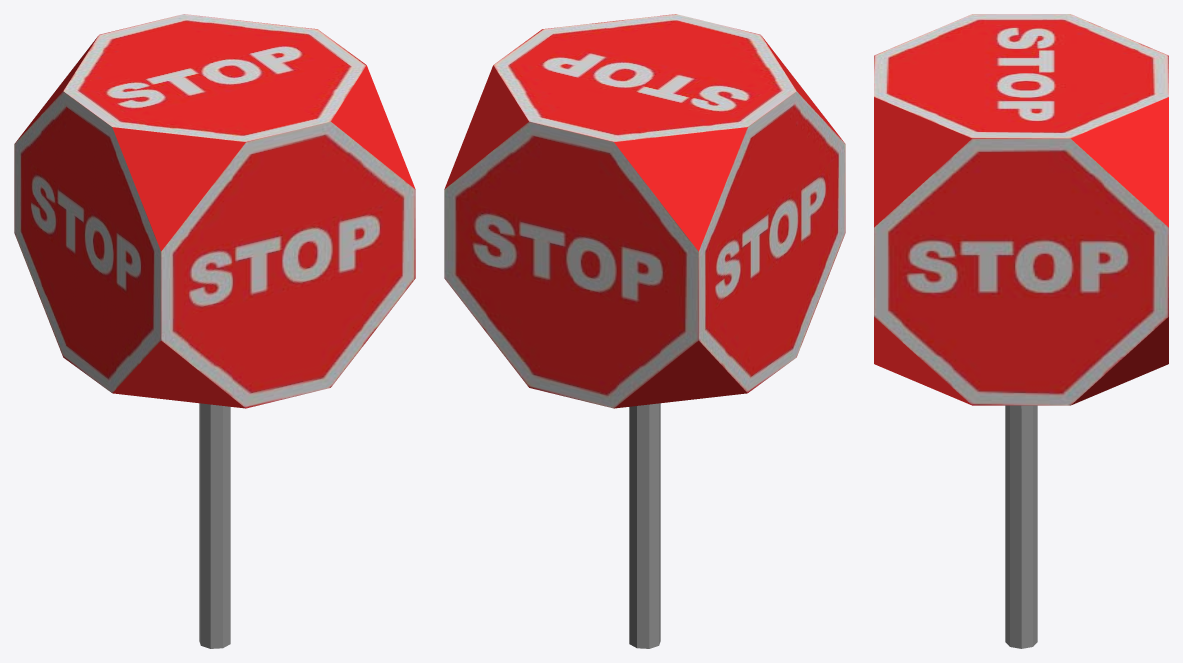
File: stopSign_v2.fbx
The picture shows the model from 3 angles, left to right: view 1: azimuth 30°, elevation 25°; view 2: azimuth 150°, elevation 25°; view 3: azimuth 270°, elevation 25°; orthographic projection.
Visible parts, largest first — view 1: stopSign_cube_01, stopSign_pole_01; view 2: stopSign_cube_01, stopSign_pole_01; view 3: stopSign_cube_01, stopSign_pole_01.
Boxes of the visible parts, x1=… form: stopSign_cube_01: x1=14, y1=14, x2=415, y2=408; stopSign_pole_01: x1=199, y1=403, x2=230, y2=648; stopSign_cube_01: x1=444, y1=14, x2=845, y2=408; stopSign_pole_01: x1=629, y1=403, x2=660, y2=648; stopSign_cube_01: x1=874, y1=14, x2=1168, y2=405; stopSign_pole_01: x1=1005, y1=405, x2=1037, y2=648.
Bounding box in the file's own units: 8.64 × 18.3 × 8.64.
